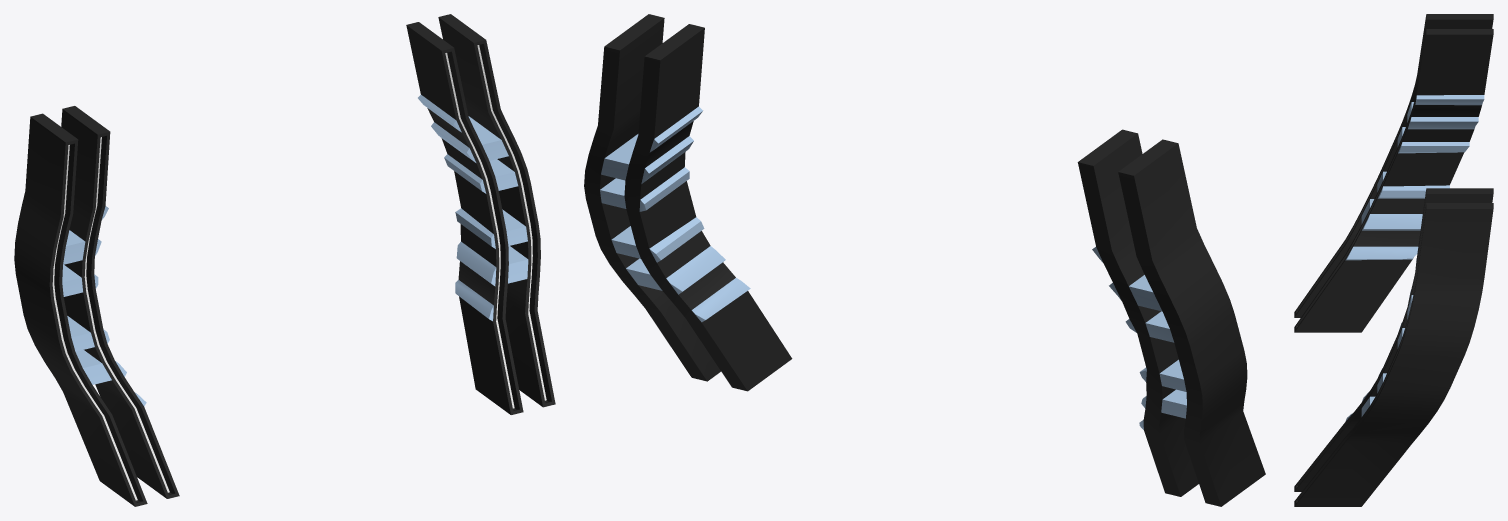
The model's file is lights_guide.fbx.
3 renders of one model, left to right at view 1: azimuth 30°, elevation 25°; view 2: azimuth 150°, elevation 25°; view 3: azimuth 270°, elevation 25°, orthographic. The views are drawn at different scales.
Parts seen in each view (by area): view 1: Cube.005, Cube.006, Cube.003; view 2: Cube.006, Cube.005; view 3: Cube.006, Cube.005.
Part boxes in pixels (x1,y1,x2,y2): Cube.005: [14, 106, 179, 506]; Cube.006: [406, 14, 555, 414]; Cube.003: [52, 45, 546, 500]; Cube.006: [584, 14, 792, 391]; Cube.005: [1077, 129, 1265, 506]; Cube.006: [1294, 188, 1493, 506]; Cube.005: [1294, 14, 1493, 332].
Bounding box in the file's own units: 900 × 564 × 341.
